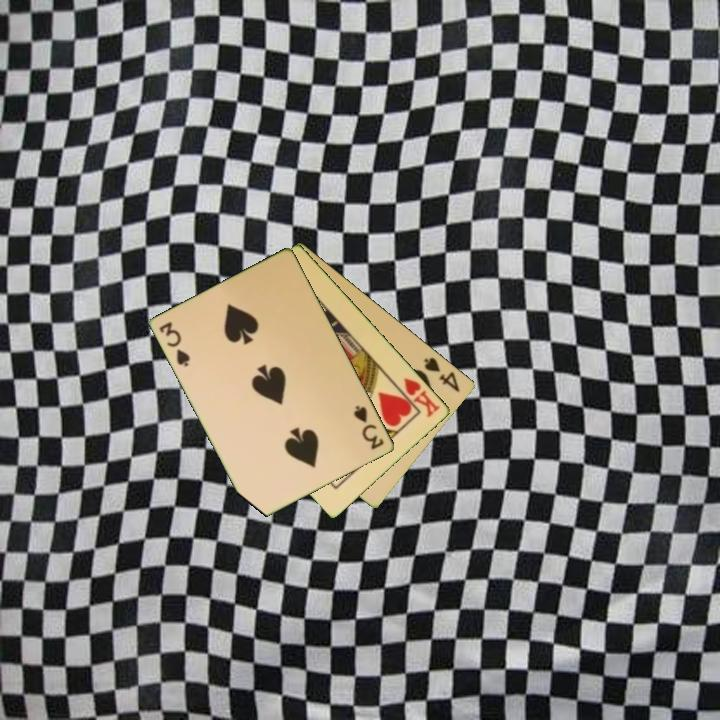3s: (156, 318, 193, 370), (351, 402, 387, 453)
4s: (420, 353, 463, 395)
Kh: (392, 374, 443, 420)
